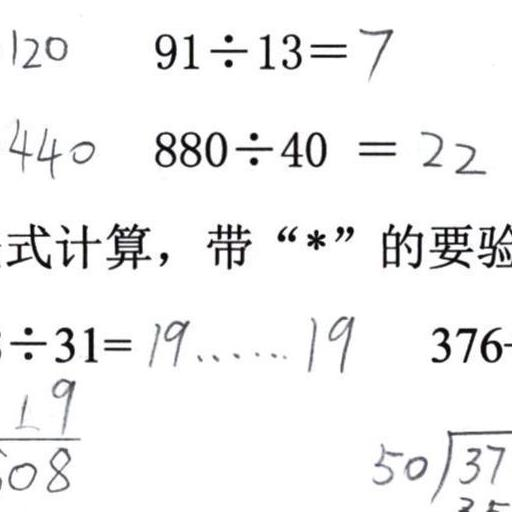ans: (142, 308, 354, 374), (4, 114, 95, 179), (415, 125, 483, 175), (5, 24, 67, 69), (354, 20, 394, 79)
